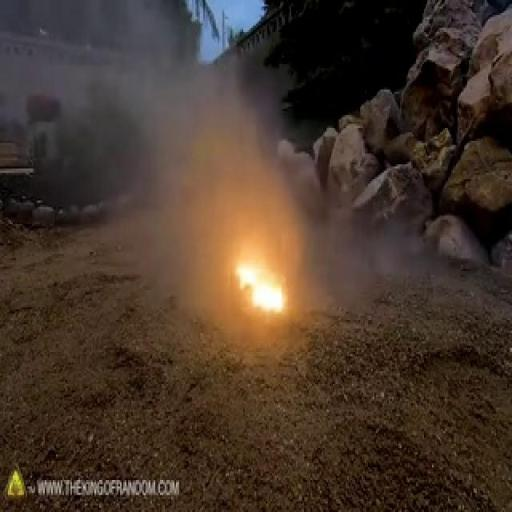smoke: (230, 248, 300, 322)
